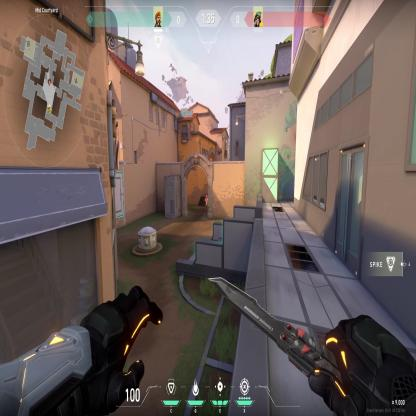enemy: (204, 194, 208, 216)
